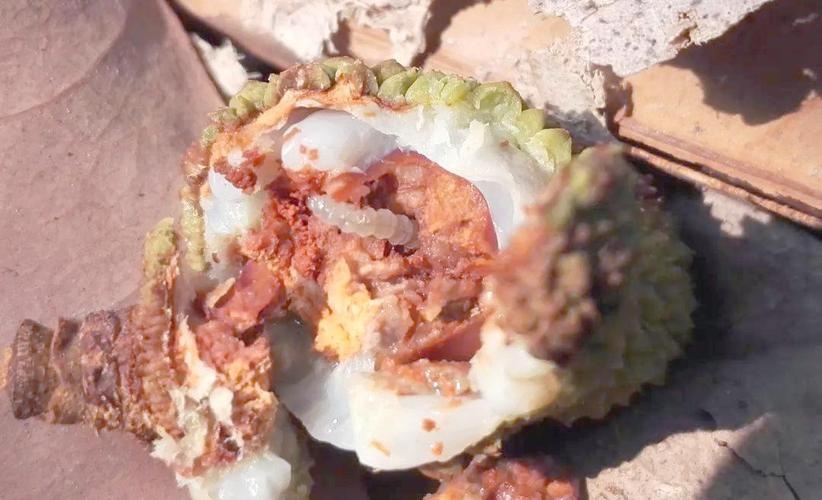Borer: (302, 194, 434, 269)
